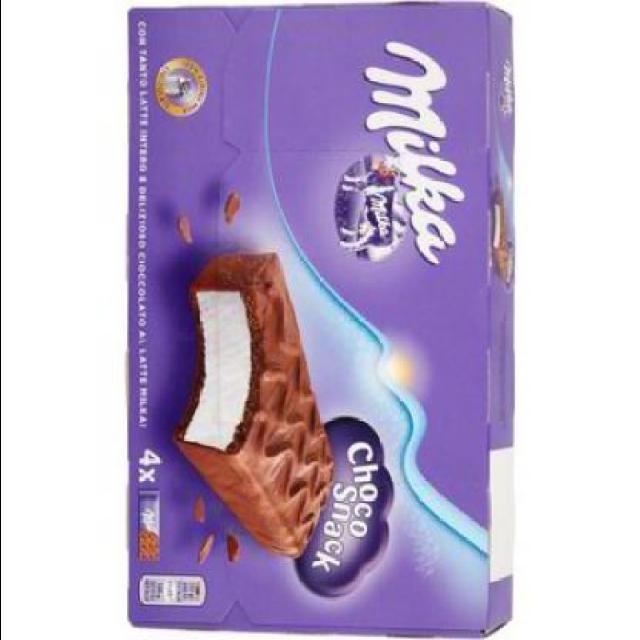Chocolate bar: (122, 1, 520, 638)
